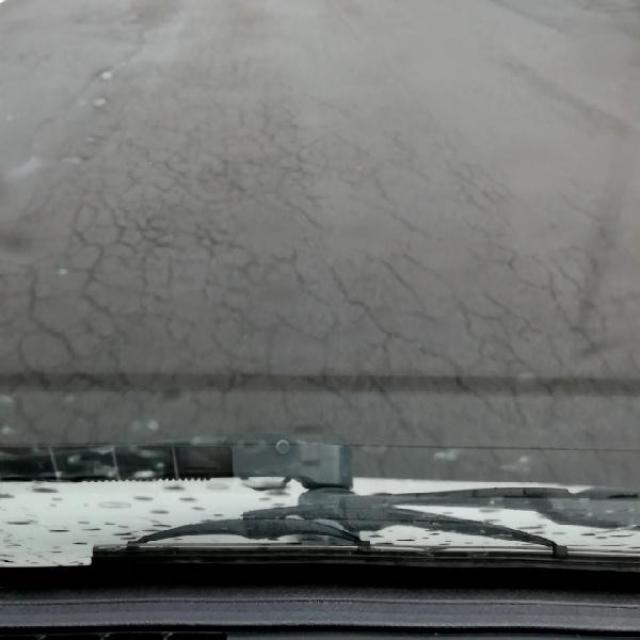Crack: (0, 84, 640, 467)
